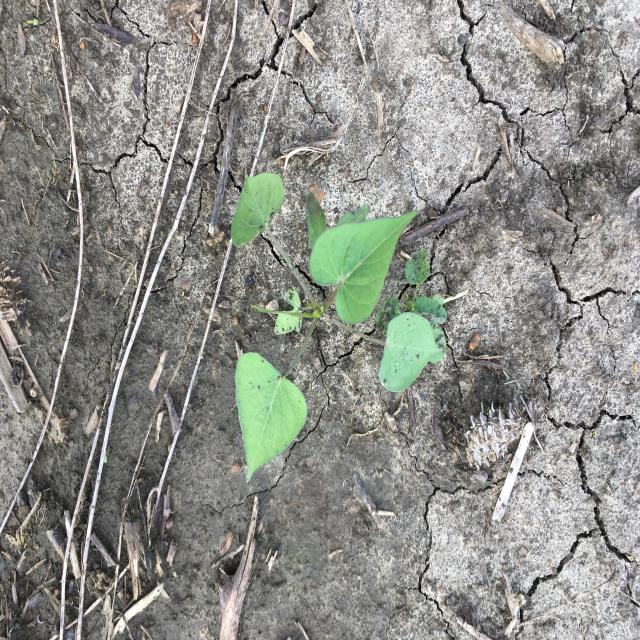MorningGlory: (229, 170, 449, 486)
